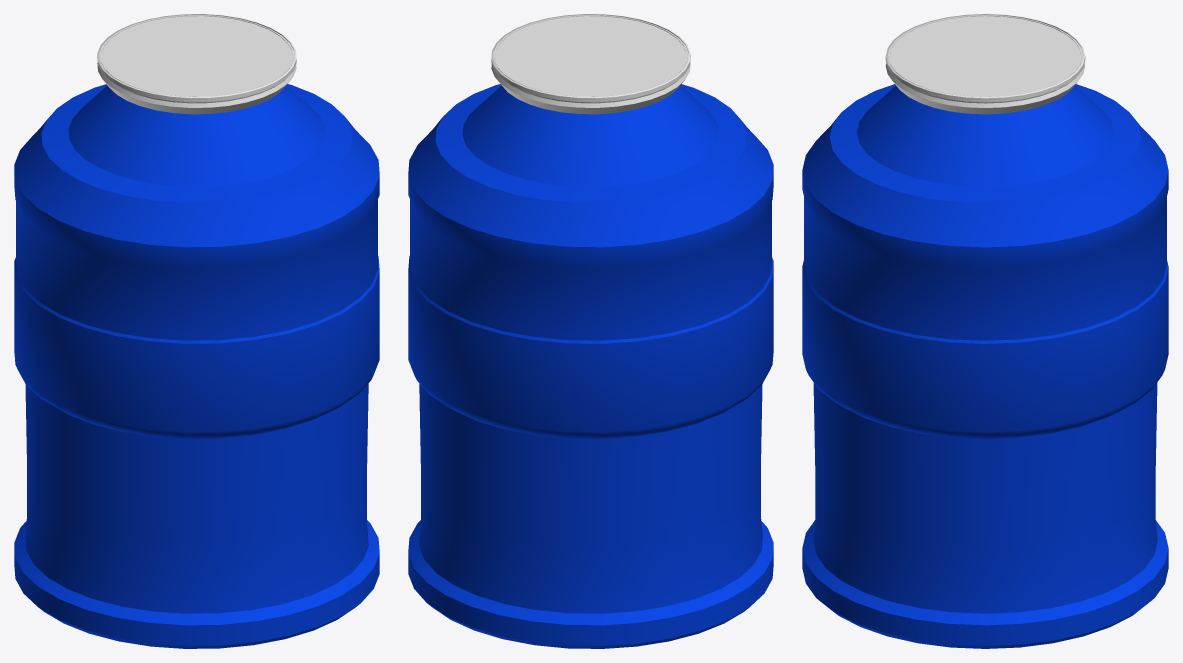
The model's file is bottle23.glb.
3 views of the same model, side by side, from view 1: azimuth 30°, elevation 25°; view 2: azimuth 150°, elevation 25°; view 3: azimuth 270°, elevation 25° (orthographic).
Visible parts, largest first — view 1: Bottle23; view 2: Bottle23; view 3: Bottle23.
Part boxes in pixels (<box>): Bottle23: <box>14,14,379,648</box>; Bottle23: <box>408,14,773,648</box>; Bottle23: <box>802,14,1168,648</box>.
Size of the model in its own units: 0.7324 by 1.14 by 0.7324.
